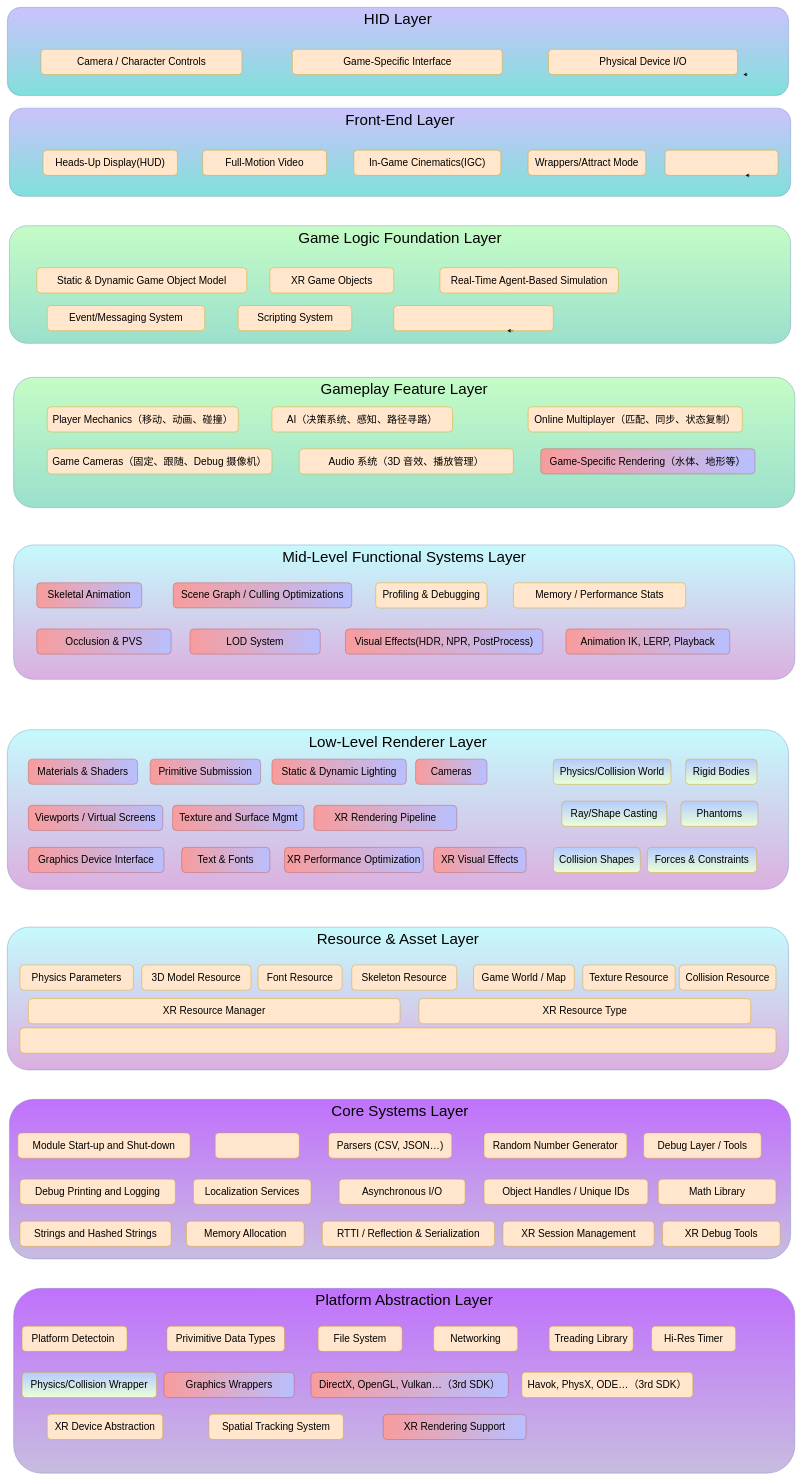
This 802x1481 diagram has some shape labels left out. Here are the shapes that lost their labels. From the top down, the centre of each, then its label:
At [721,162]: "In-Game GUI/Menus".
At [473,318]: "World Loading/Streaming".
At [398,1040]: "Resource Manager".
At [257,1145]: "Unit Testing".
